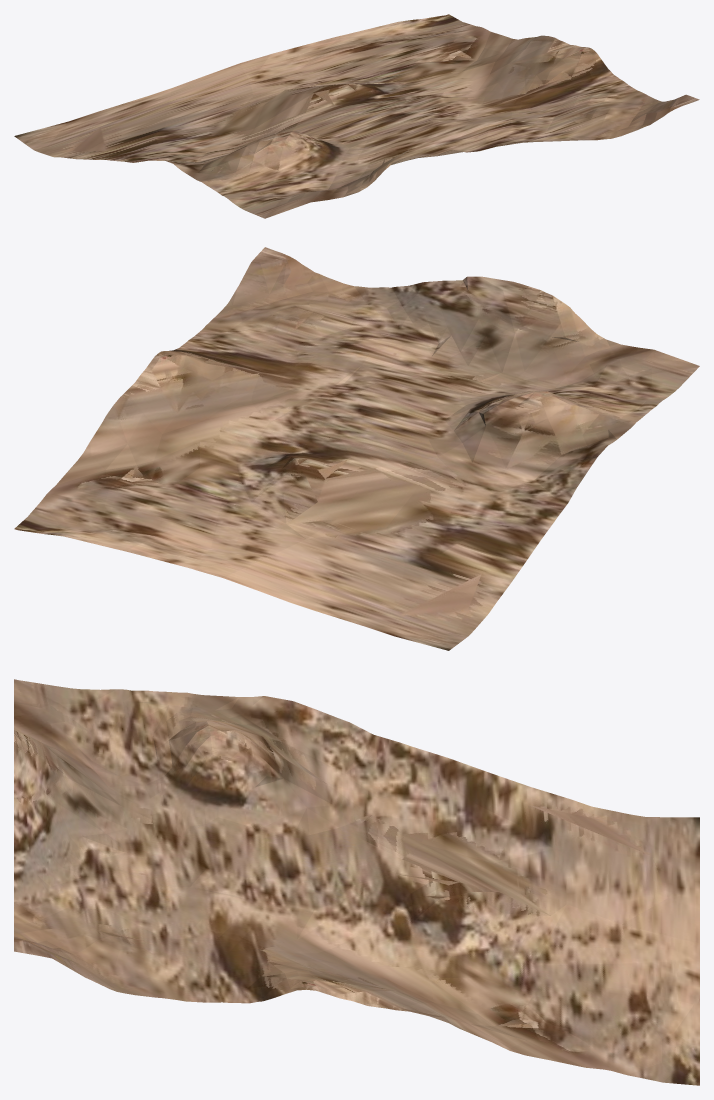
3 views of the same model, one above another, from view 1: azimuth 30°, elevation 25°; view 2: azimuth 150°, elevation 25°; view 3: azimuth 270°, elevation 25° (orthographic). The views are drawn at different scales.
Size of the model in its own units: 1.04 by 0.321 by 1.04.
Materials: 2 (2 with a texture image).
